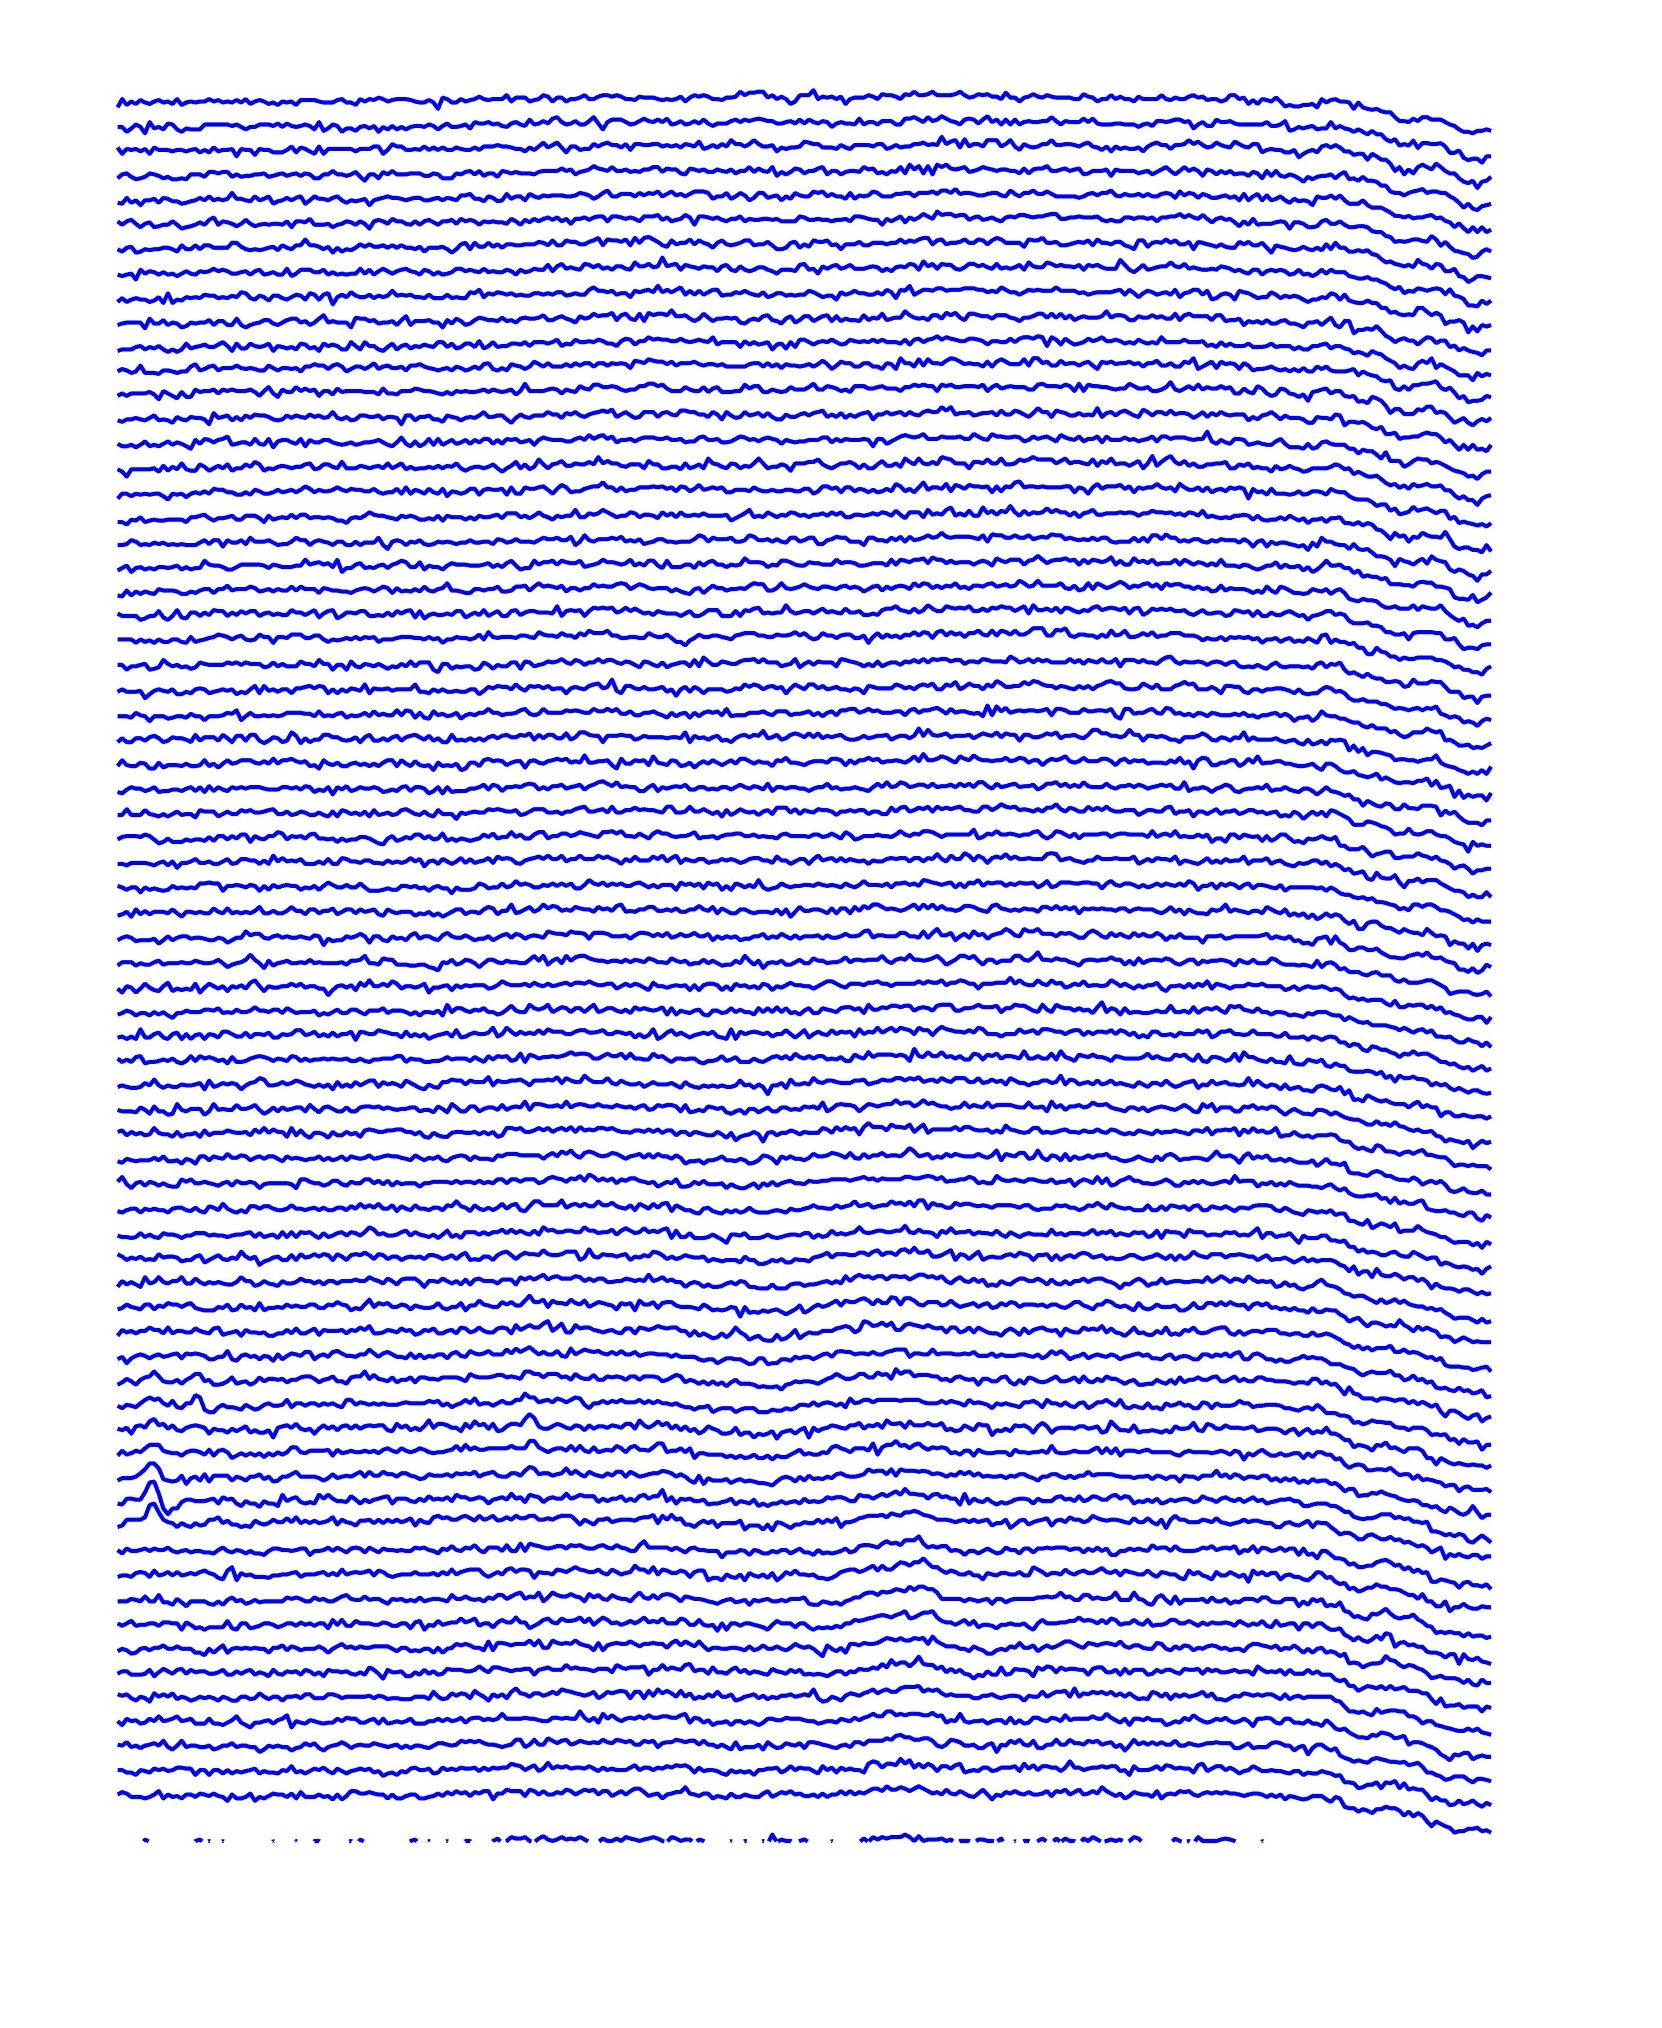defect: (126, 1440, 202, 1570)
